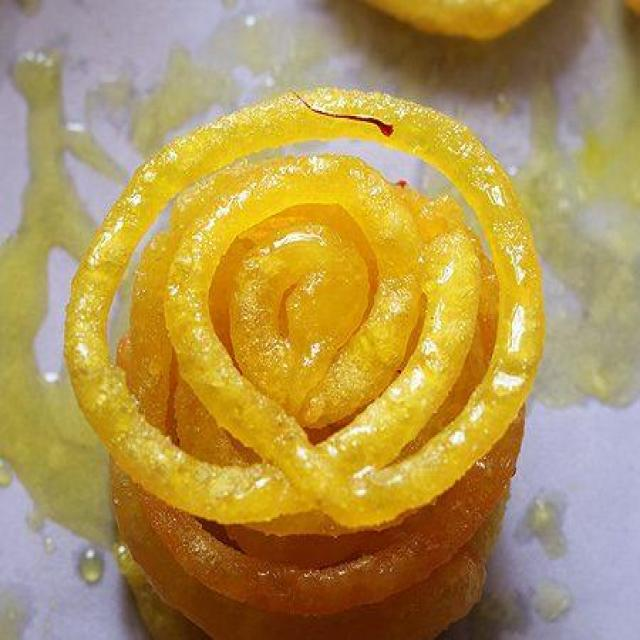jalebi: (81, 71, 526, 635)
